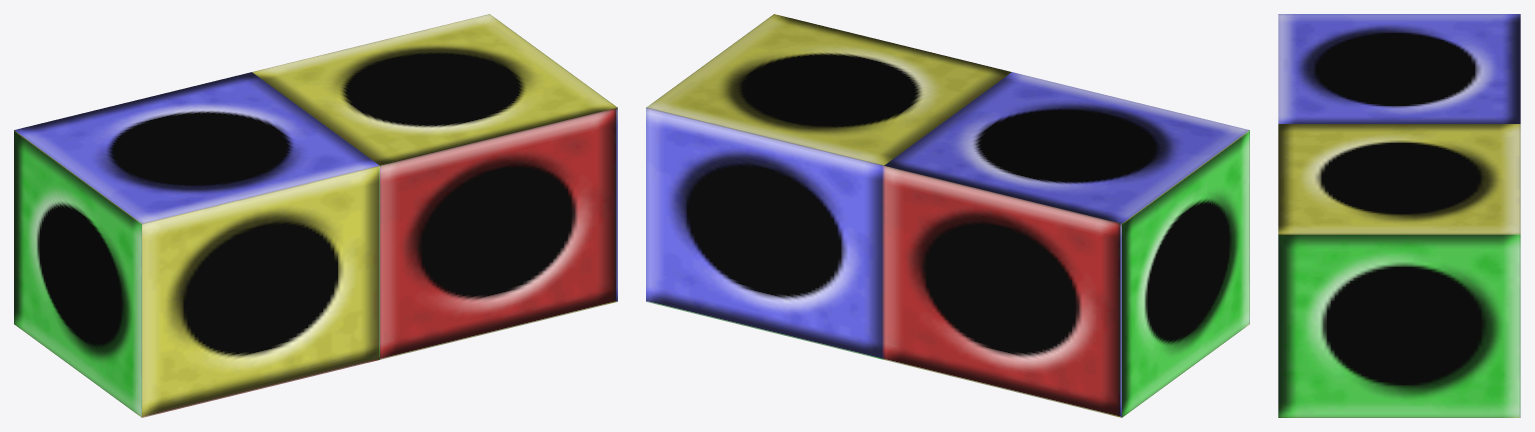
3 views of the same model, side by side, from view 1: azimuth 30°, elevation 25°; view 2: azimuth 150°, elevation 25°; view 3: azimuth 270°, elevation 25° (orthographic). The views are drawn at different scales.
Visible parts, largest first — view 1: Box06; view 2: Box06; view 3: Box06.
Part boxes in pixels (left/top/right/bottom): Box06: left=14, top=14, right=617, bottom=417; Box06: left=646, top=14, right=1249, bottom=417; Box06: left=1278, top=14, right=1520, bottom=417.
Bounding box in the file's own units: 791 × 308 × 368.
1 material, 1 textured.
